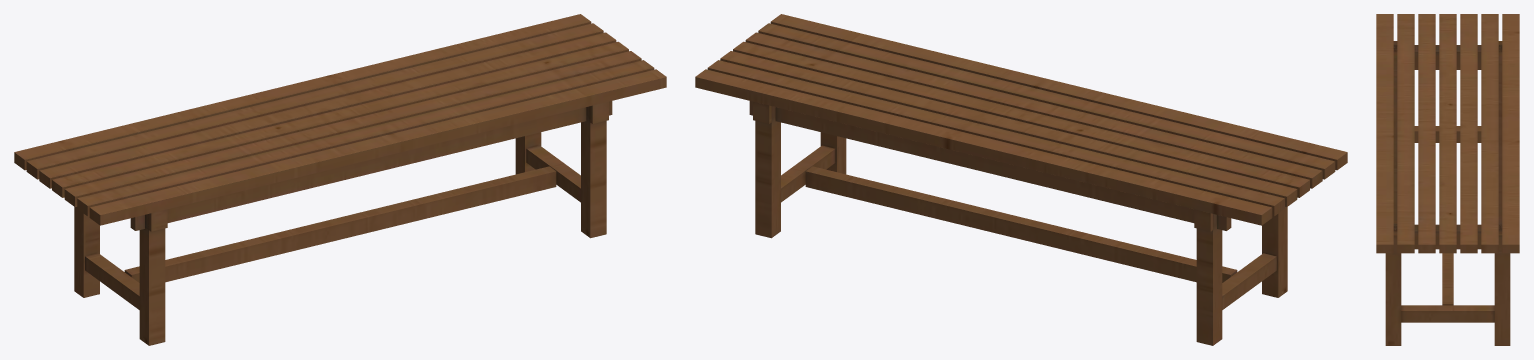
File: garden_bench.glb
3 renders of one model, left to right at view 1: azimuth 30°, elevation 25°; view 2: azimuth 150°, elevation 25°; view 3: azimuth 270°, elevation 25°, orthographic. The views are drawn at different scales.
Visible parts, largest first — view 1: garden_bench; view 2: garden_bench; view 3: garden_bench.
Part boxes in pixels (x1,y1,x2,y2): garden_bench: [14, 14, 666, 345]; garden_bench: [695, 14, 1347, 345]; garden_bench: [1376, 14, 1519, 345].
Bounding box in the file's own units: 1.9 × 0.4751 × 0.5001.
1 material, 1 textured.
